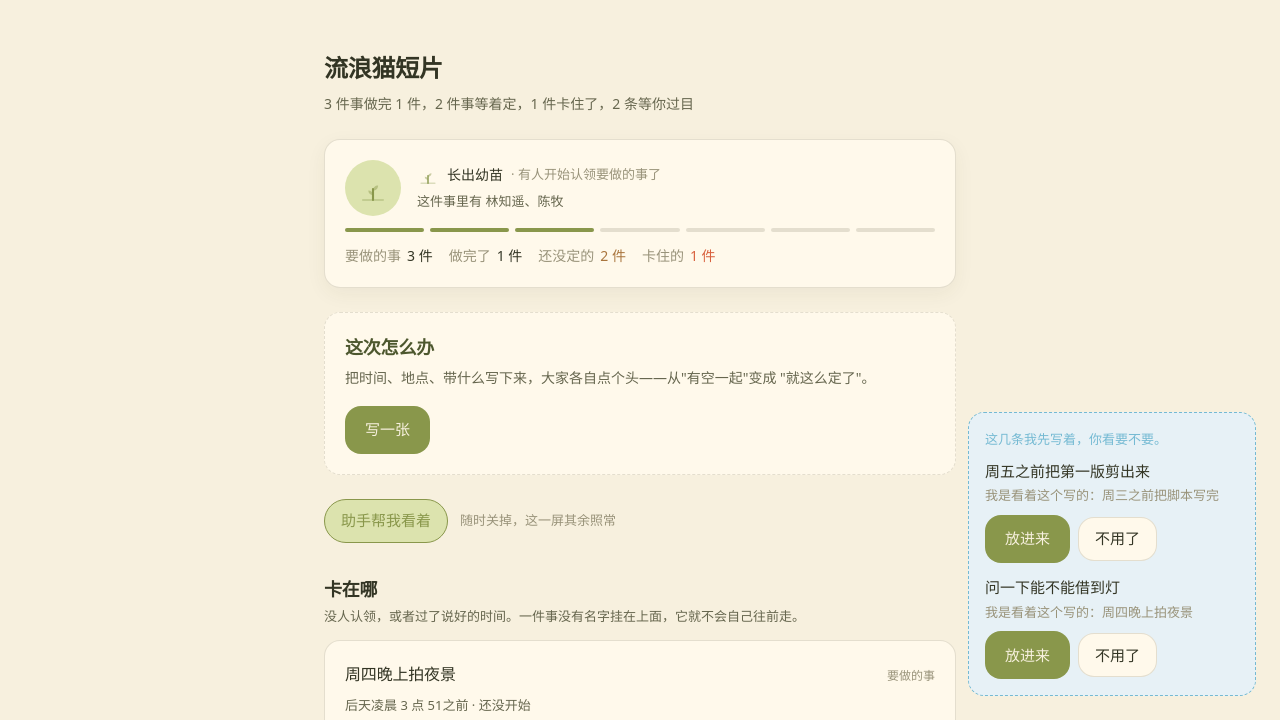
Test: 关掉助手之后整屏照常 › 建议那一栏消失，四个分组和所有操作按钮一格不少
Expected: the element named "助手写的" is shown, [968, 412, 1256, 696]
Click the switch labelled "助手帮我看着" at (386, 521), box [324, 499, 448, 543]
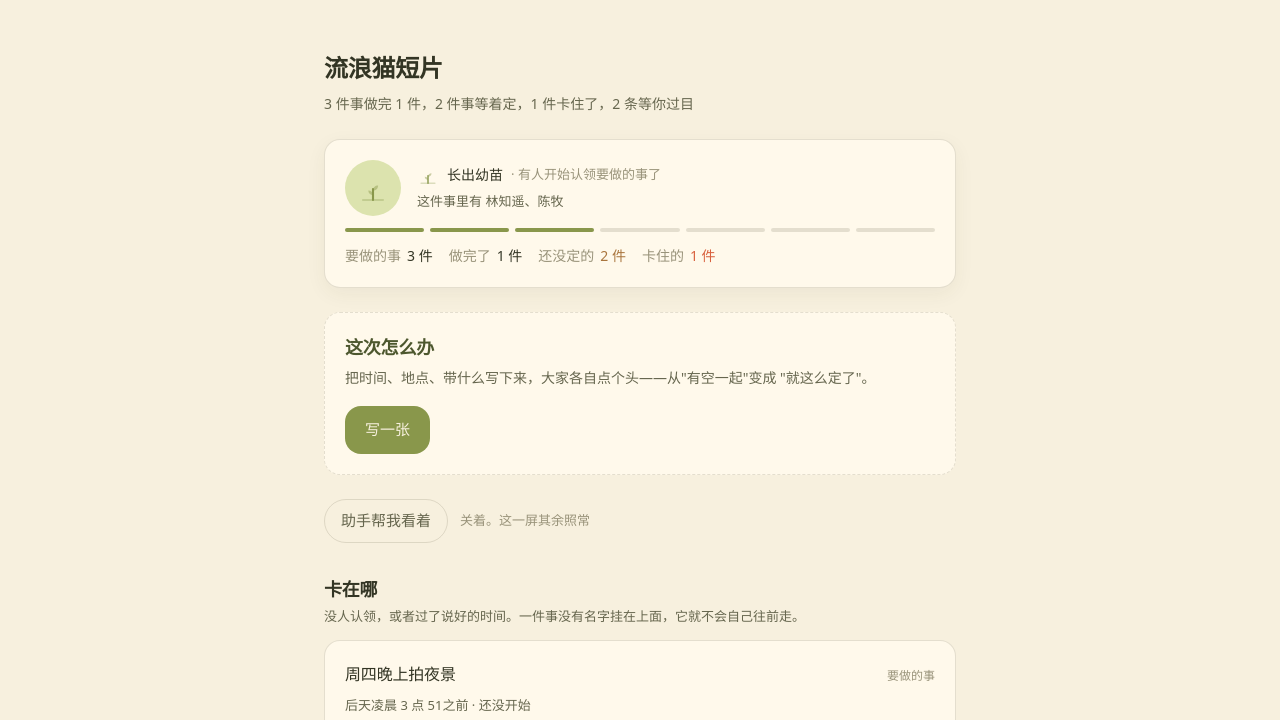
Expected: the heading "周四晚上拍夜景" is shown, [345, 661, 456, 687]
Result: the element "助手写的" is gone
